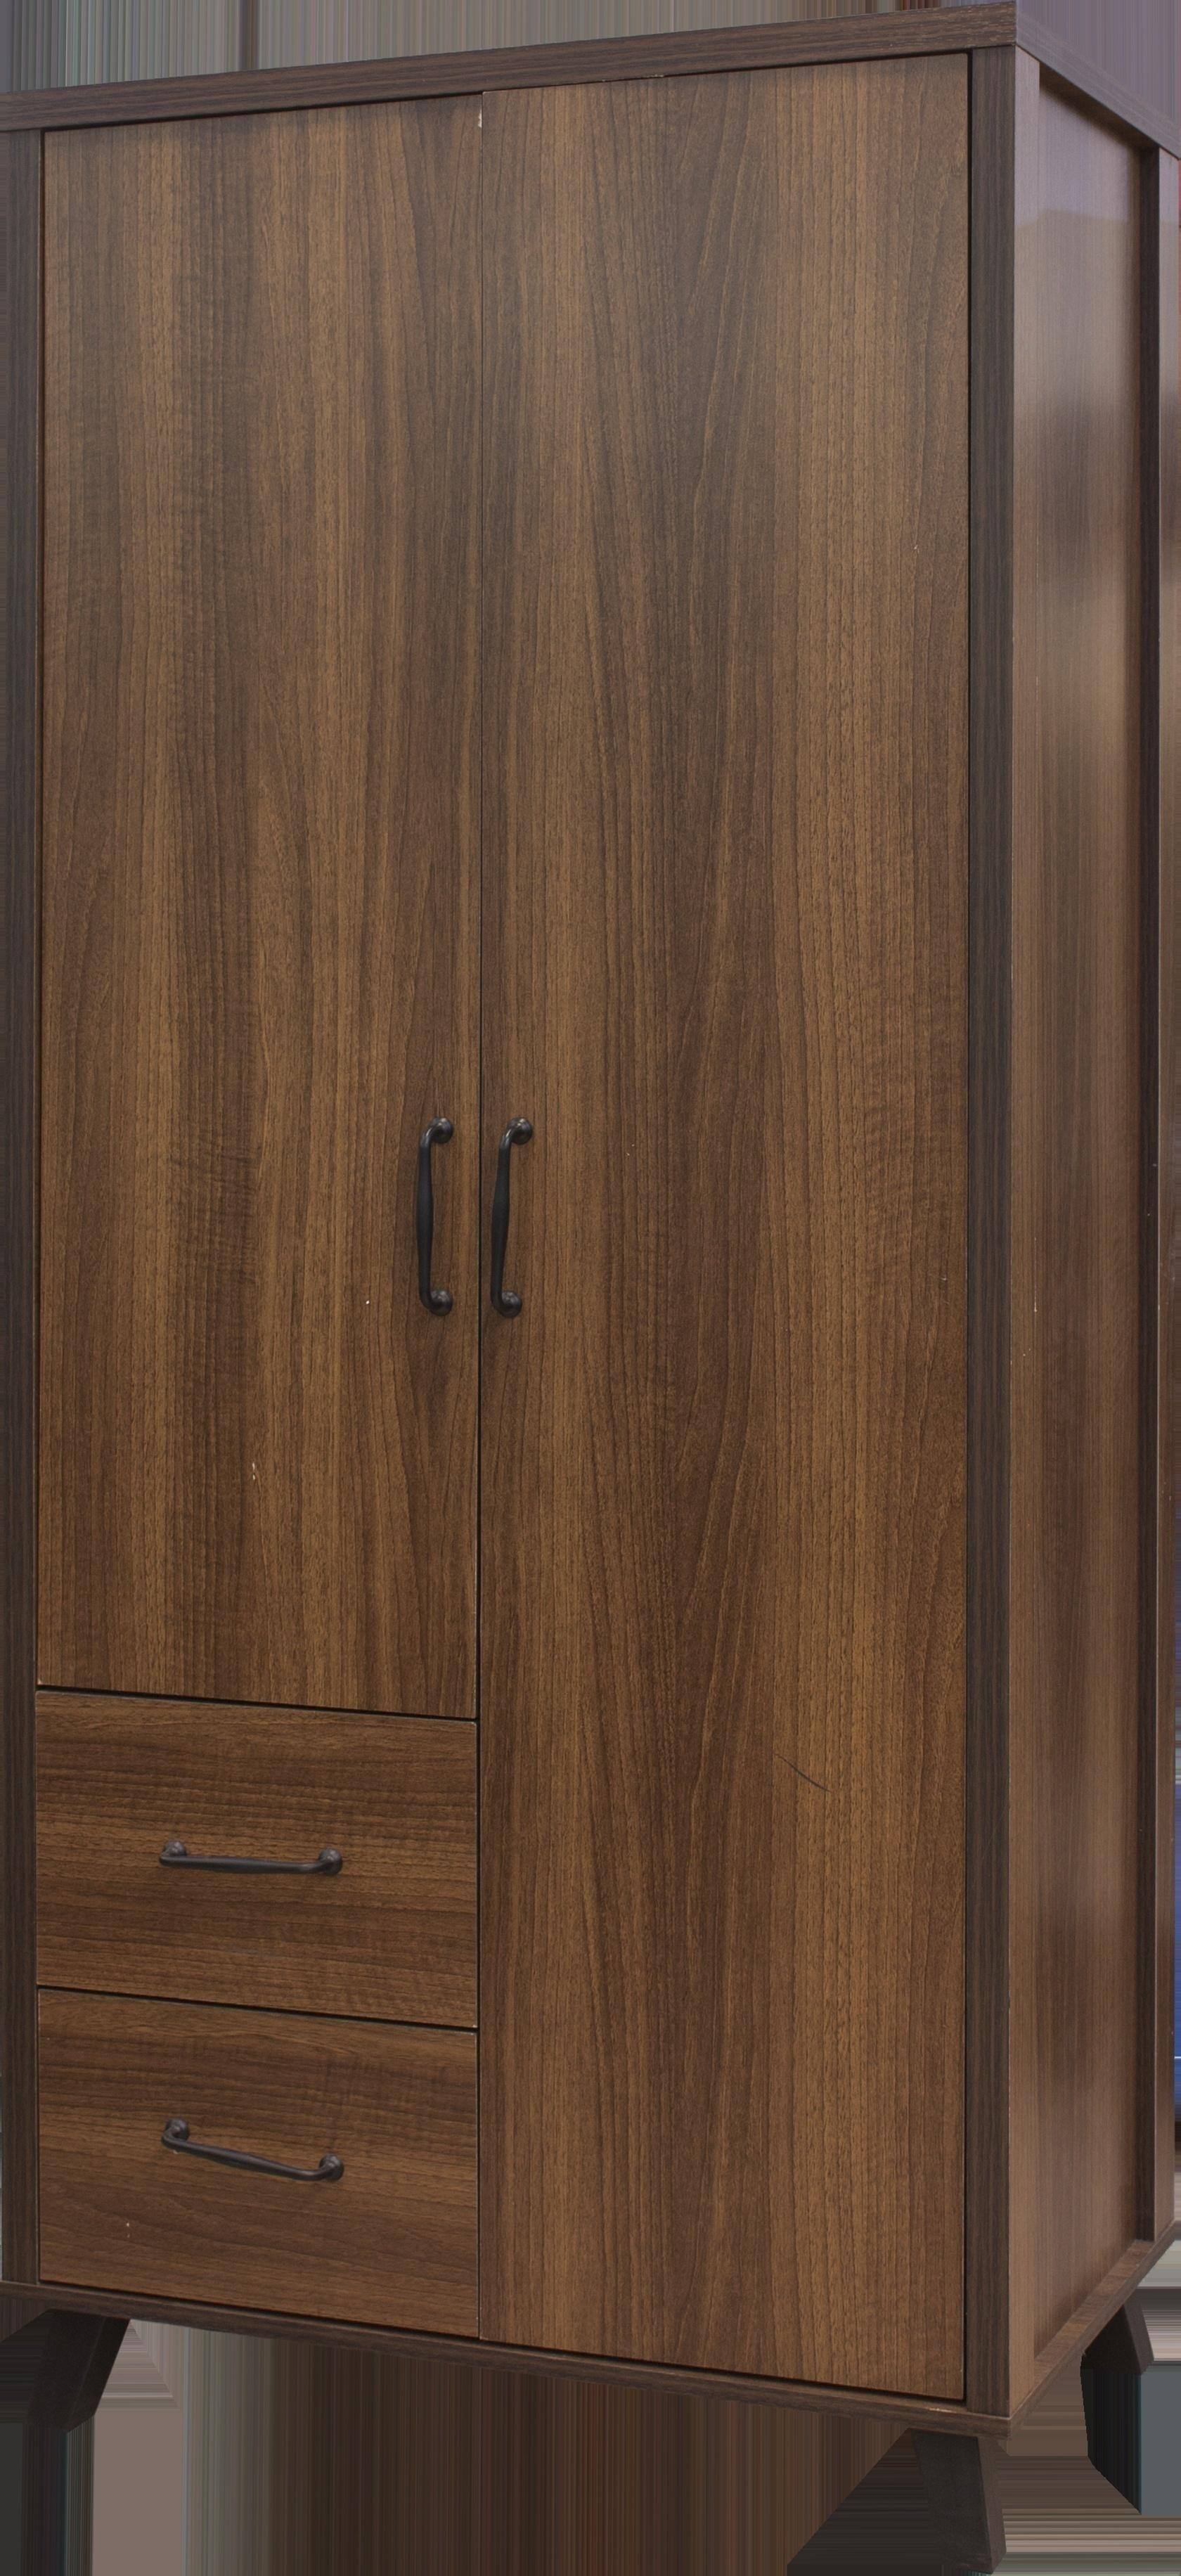cabinet_door: (493, 59, 1002, 2354), (38, 148, 480, 1699), (39, 1690, 476, 2004), (44, 2006, 478, 2315)
handle: (168, 2106, 348, 2216), (159, 1812, 347, 1917), (416, 1099, 460, 1339), (494, 1102, 531, 1336)
